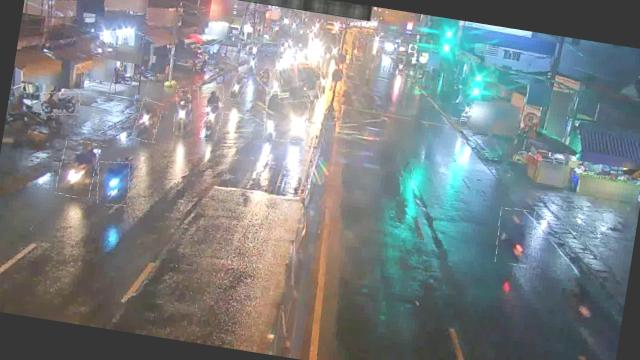Bike: (56, 137, 100, 199), (494, 207, 537, 268), (94, 158, 132, 206), (133, 98, 163, 142), (38, 88, 82, 118), (200, 102, 224, 141), (197, 82, 226, 108), (173, 102, 191, 133), (228, 72, 246, 102), (175, 88, 192, 106)
Bus: (273, 56, 326, 105)
Truck: (262, 86, 312, 144)
